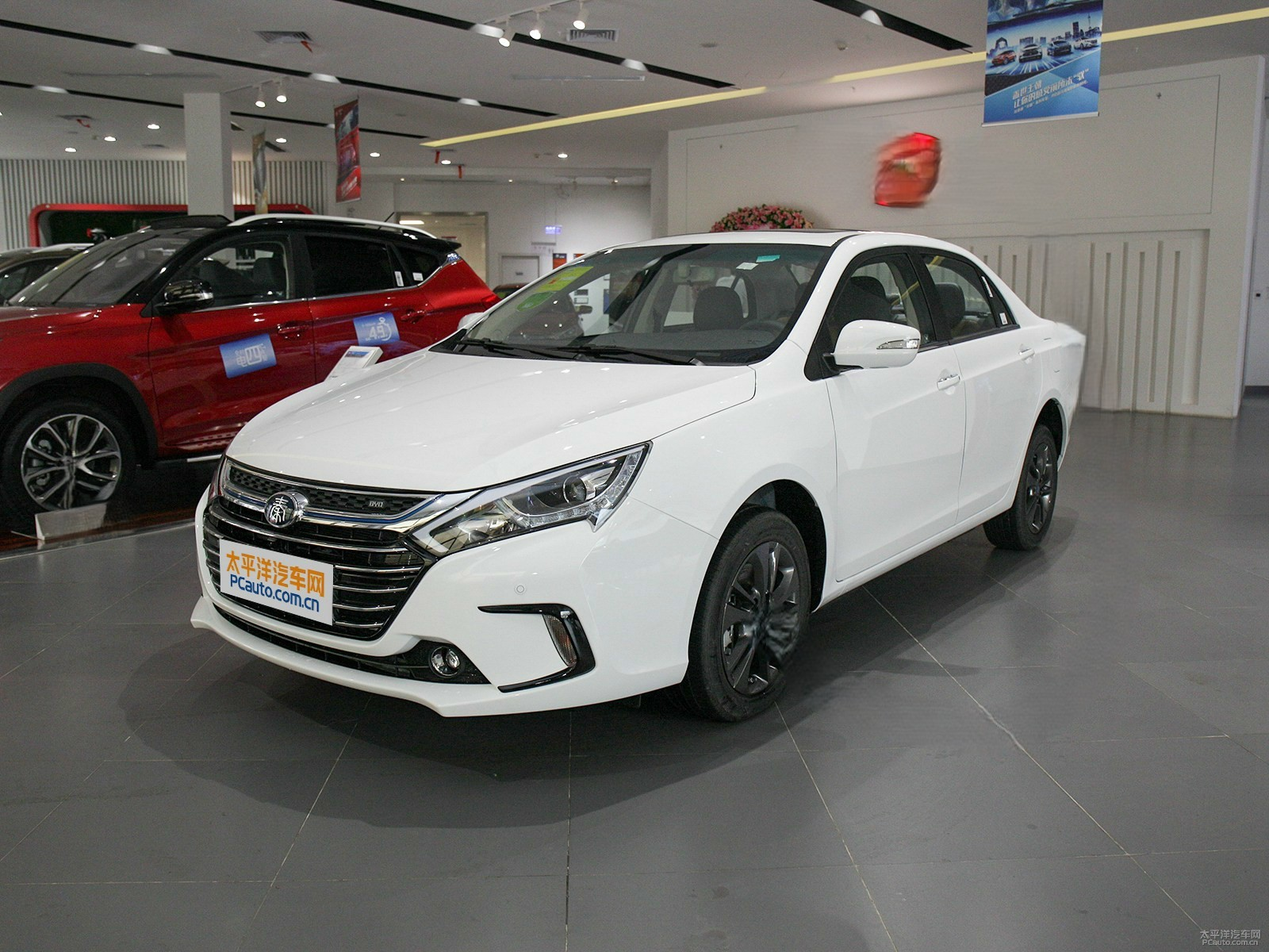BYD Qin: (264, 492, 297, 528)
